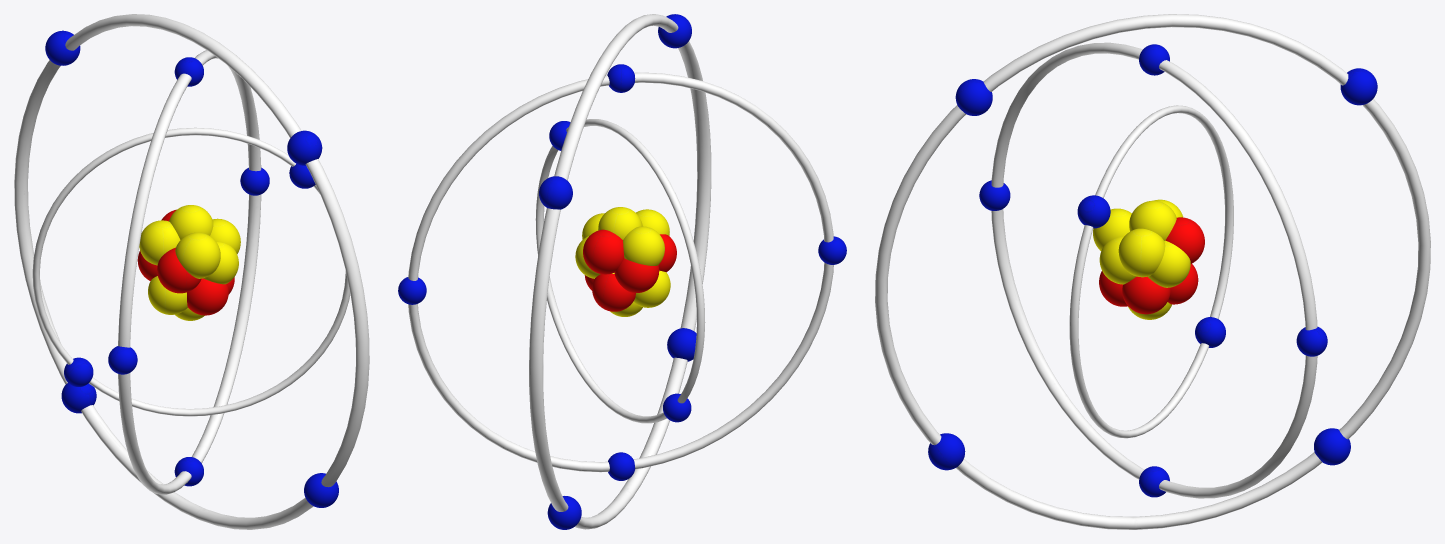
The model's file is atom.glb.
The picture shows the model from 3 angles, left to right: view 1: azimuth 30°, elevation 25°; view 2: azimuth 150°, elevation 25°; view 3: azimuth 270°, elevation 25°; orthographic projection. The views are drawn at different scales.
Visible parts, largest first — view 1: Atom_Material_0; view 2: Atom_Material_0; view 3: Atom_Material_0.
Part boxes in pixels (box(x1,y1,x2,y2)): Atom_Material_0: box(14, 14, 369, 529); Atom_Material_0: box(398, 14, 846, 529); Atom_Material_0: box(875, 14, 1430, 529).
Bounding box in the file's own units: 272 × 410 × 403.
1 material, 1 textured.
